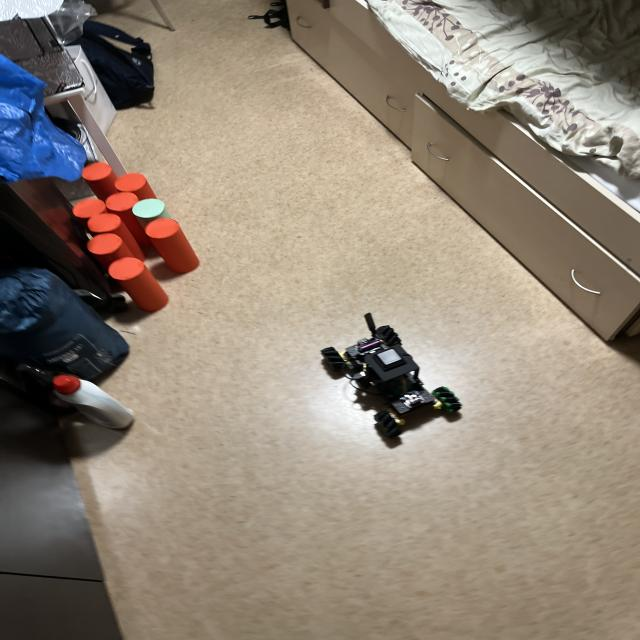robot: (321, 313, 462, 438)
